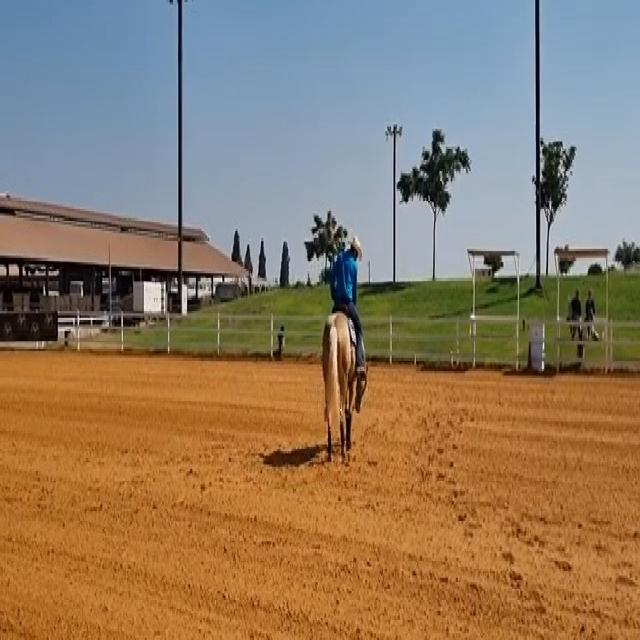horse: (319, 304, 359, 464)
